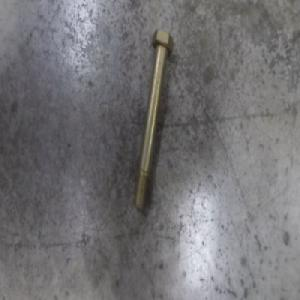Bolt: (131, 27, 174, 212)
